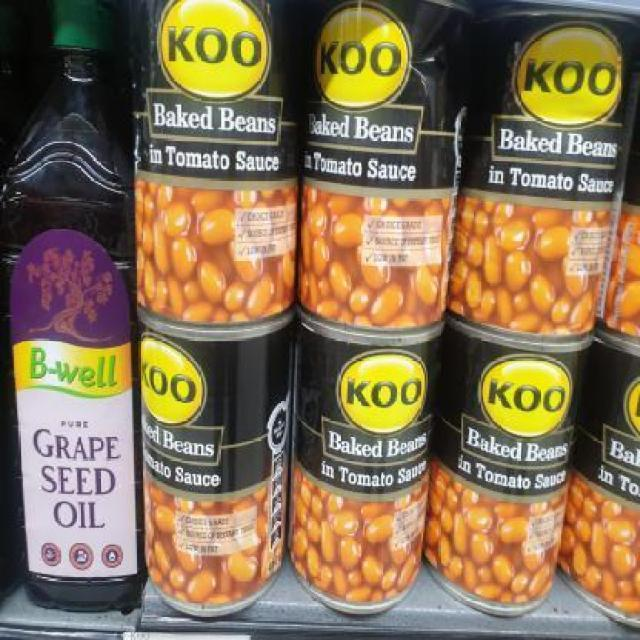Beans: (482, 0, 639, 217), (318, 0, 474, 203), (135, 11, 309, 187), (139, 317, 296, 495), (308, 322, 444, 493), (445, 320, 601, 466)
